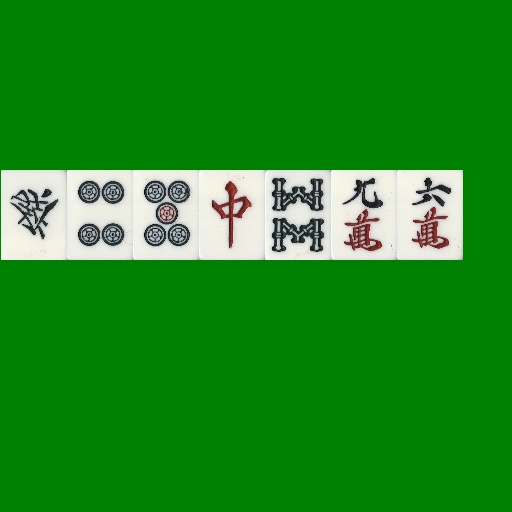4p: (67, 170, 133, 260)
5p: (133, 170, 199, 260)
6m: (397, 170, 463, 260)
8s: (265, 170, 331, 260)
9m: (331, 170, 397, 260)
hatsu: (1, 170, 67, 260)
tyun: (199, 170, 265, 260)
